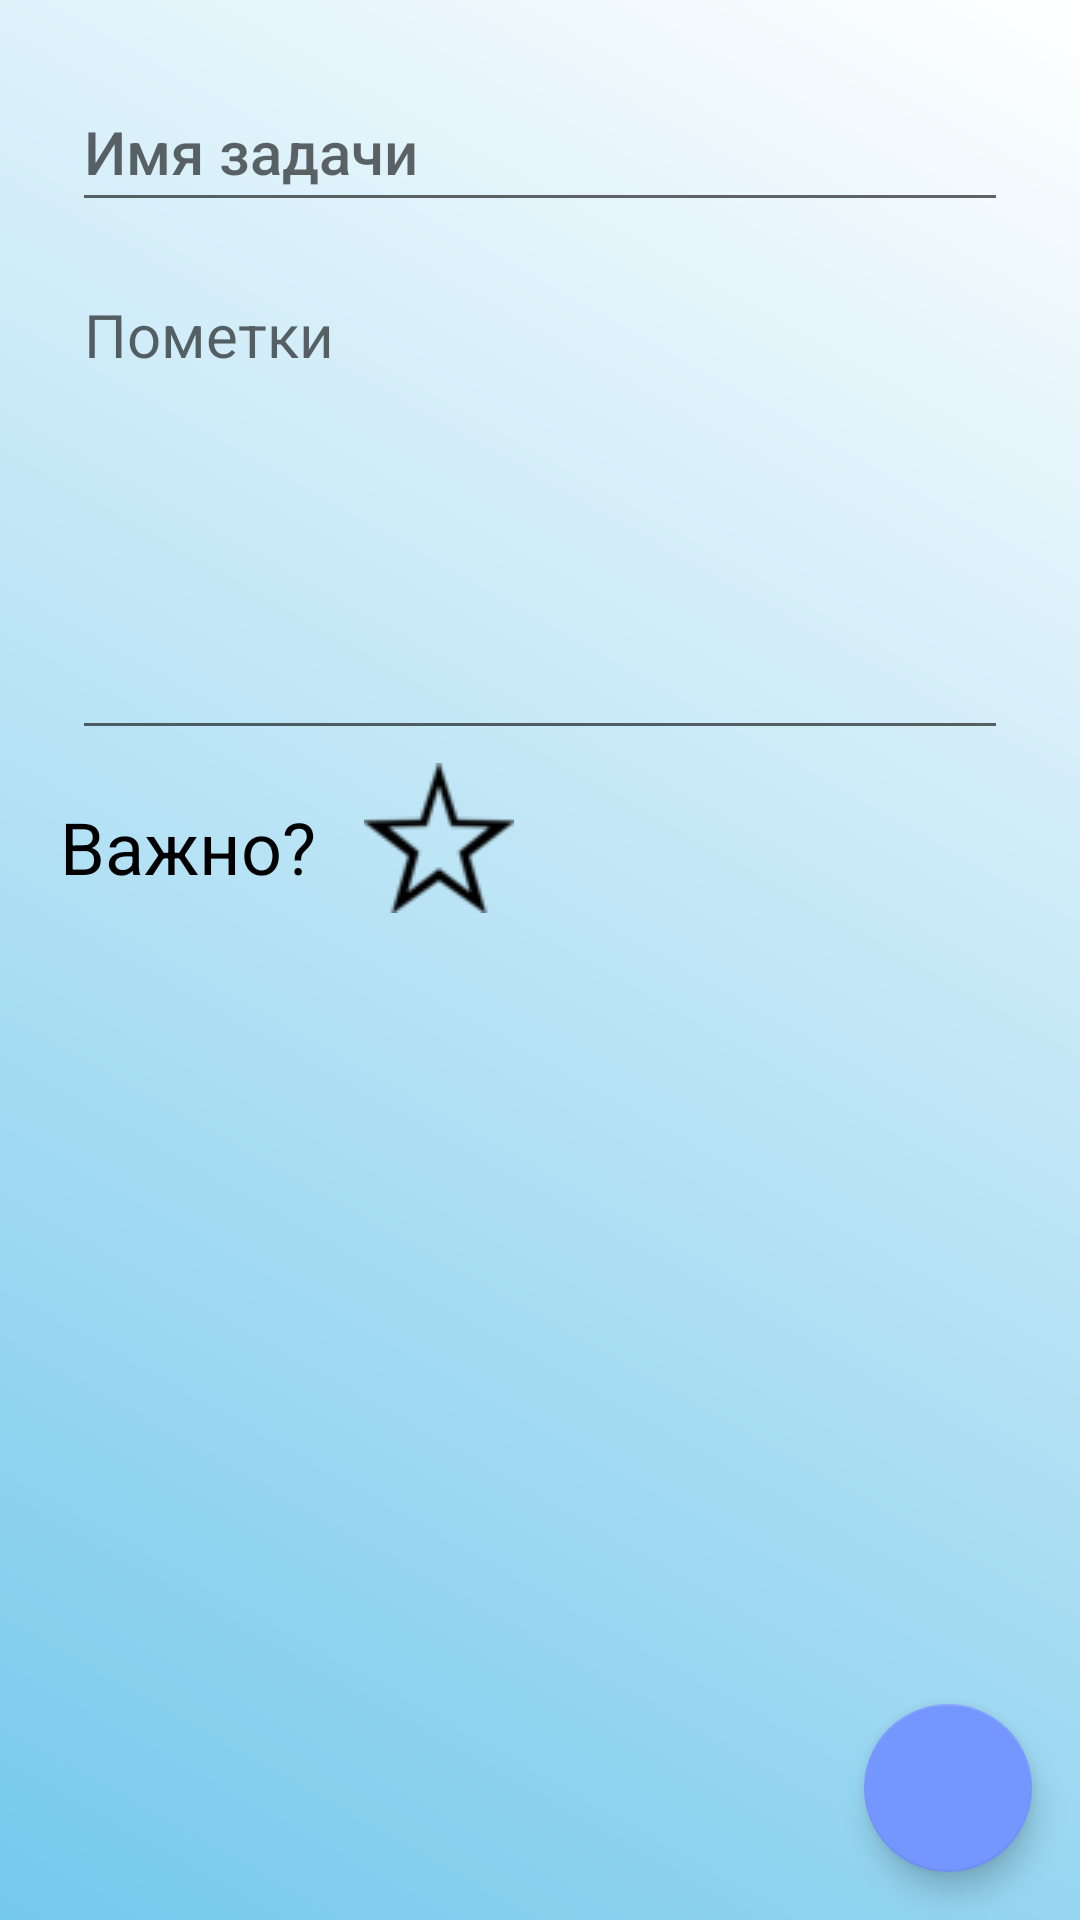

Screen size 1080px x 1920px. Icon name, then its box in pixels as (x1, y1, x2, y2):
star mark: (364, 763, 514, 913)
